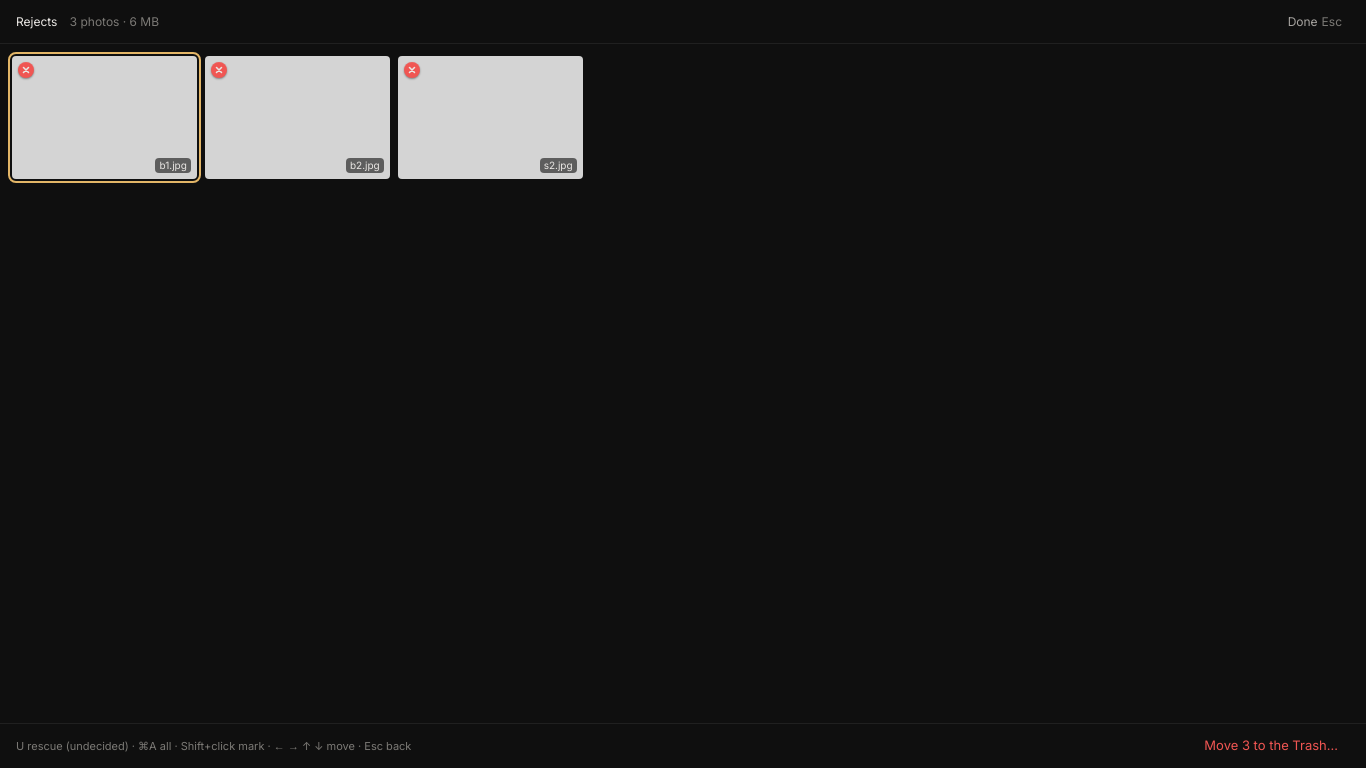
Test: the reject pile › keeps the photos of a project it could not check, and says so
Click the button "Move 3 to the Trash…" at x=1271, y=746, box left=1192, top=732, right=1350, bottom=760
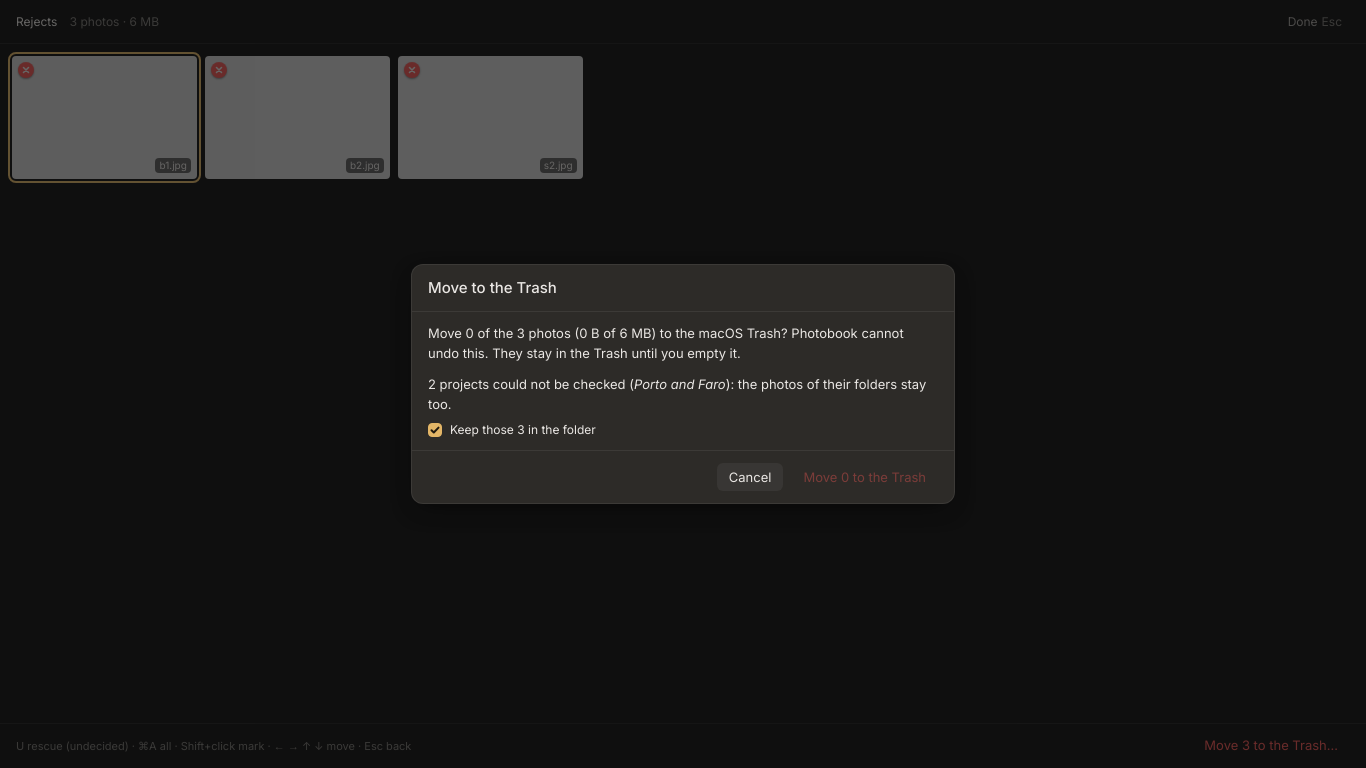
Now the dialog "Move to the Trash" shows "2 projects could not be checked (Porto and Faro)", box left=411, top=264, right=955, bottom=504
Now the button "Move 0 to the Trash" is disabled, box left=791, top=463, right=938, bottom=491
Click the checkbox labelled "Keep those 3 in the folder" at x=435, y=430, box left=428, top=423, right=442, bottom=437
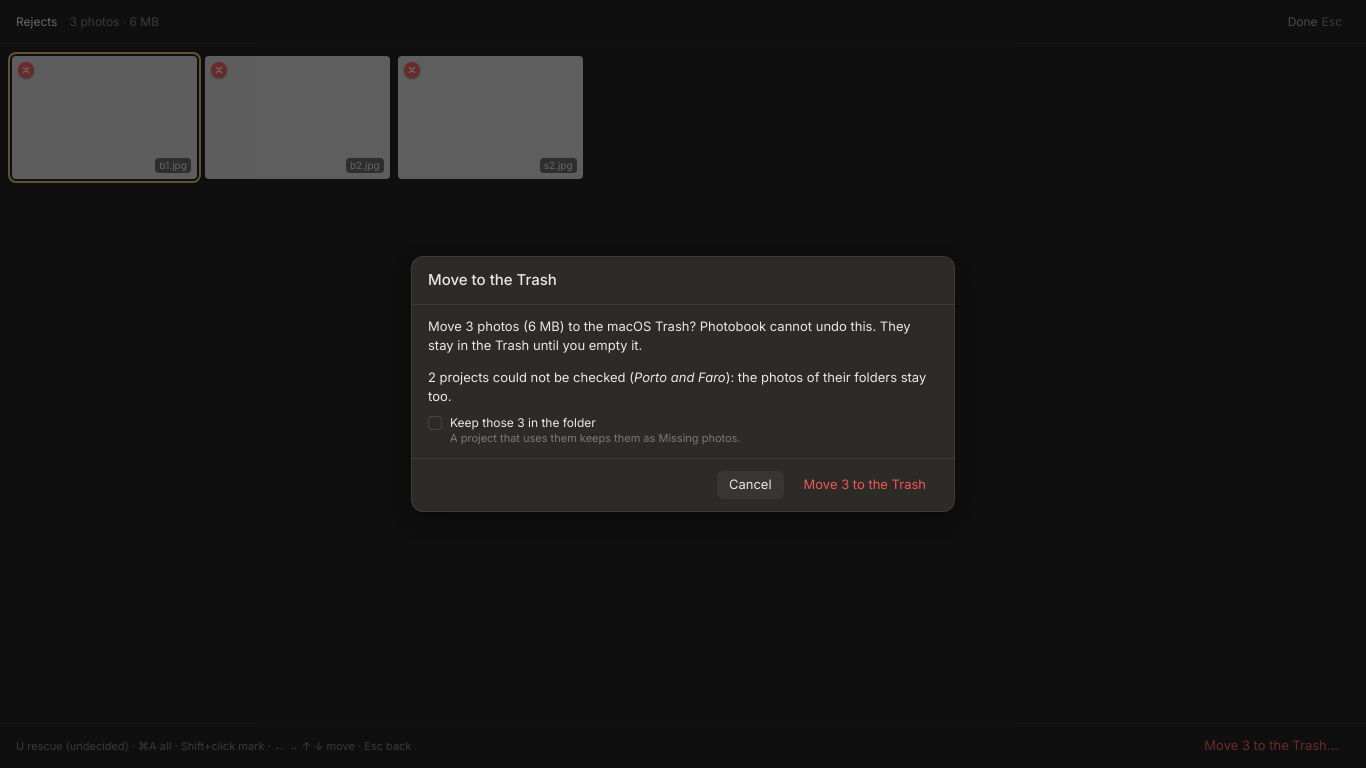
Now the button "Move 3 to the Trash" is enabled, box left=792, top=471, right=938, bottom=499
